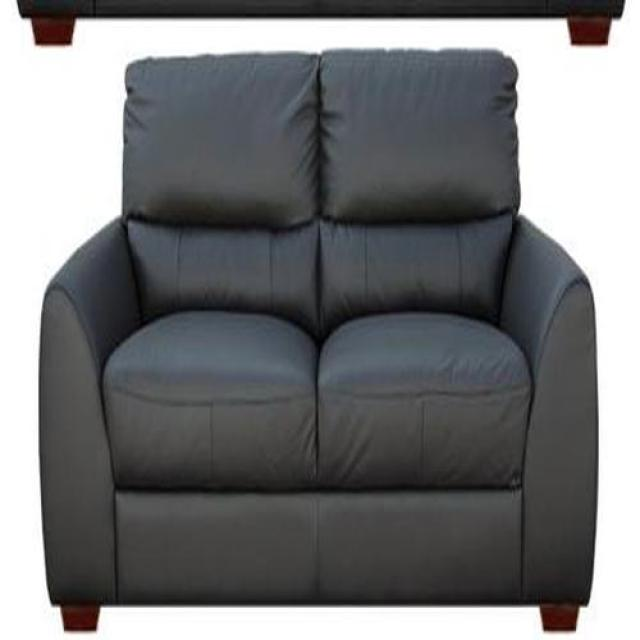sofa: (36, 49, 602, 635)
